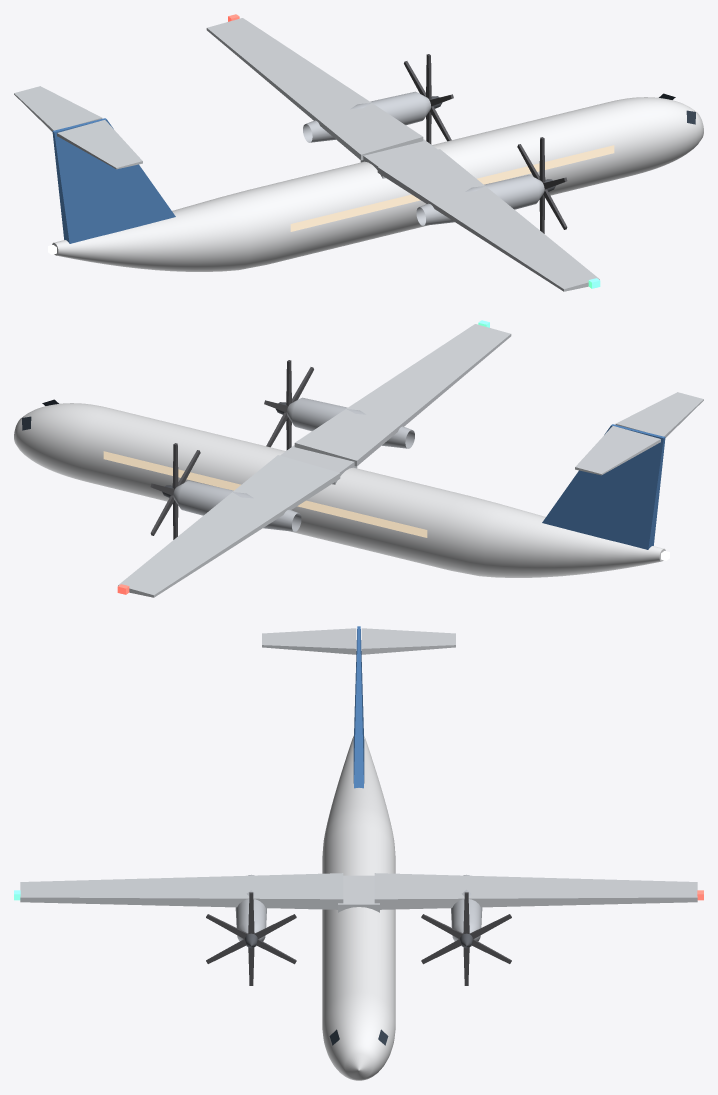
Rendered from turboprop.glb.
3 views of the same model, one above another, from view 1: azimuth 30°, elevation 25°; view 2: azimuth 150°, elevation 25°; view 3: azimuth 270°, elevation 25° (orthographic). The views are drawn at different scales.
Parts seen in each view (by area): view 1: main, prop_r, prop_l; view 2: main, prop_l, prop_r; view 3: main, prop_l, prop_r.
Boxes of the visible parts, x1,y1,x2,y2 form: main: [14, 14, 703, 291]; prop_r: [517, 137, 567, 233]; prop_l: [404, 54, 453, 144]; main: [14, 320, 703, 597]; prop_l: [150, 443, 200, 539]; prop_r: [264, 360, 313, 450]; main: [14, 626, 703, 1080]; prop_l: [421, 892, 511, 985]; prop_r: [206, 892, 296, 985].
Size of the model in its own units: 27.23 by 7.22 by 26.29.
